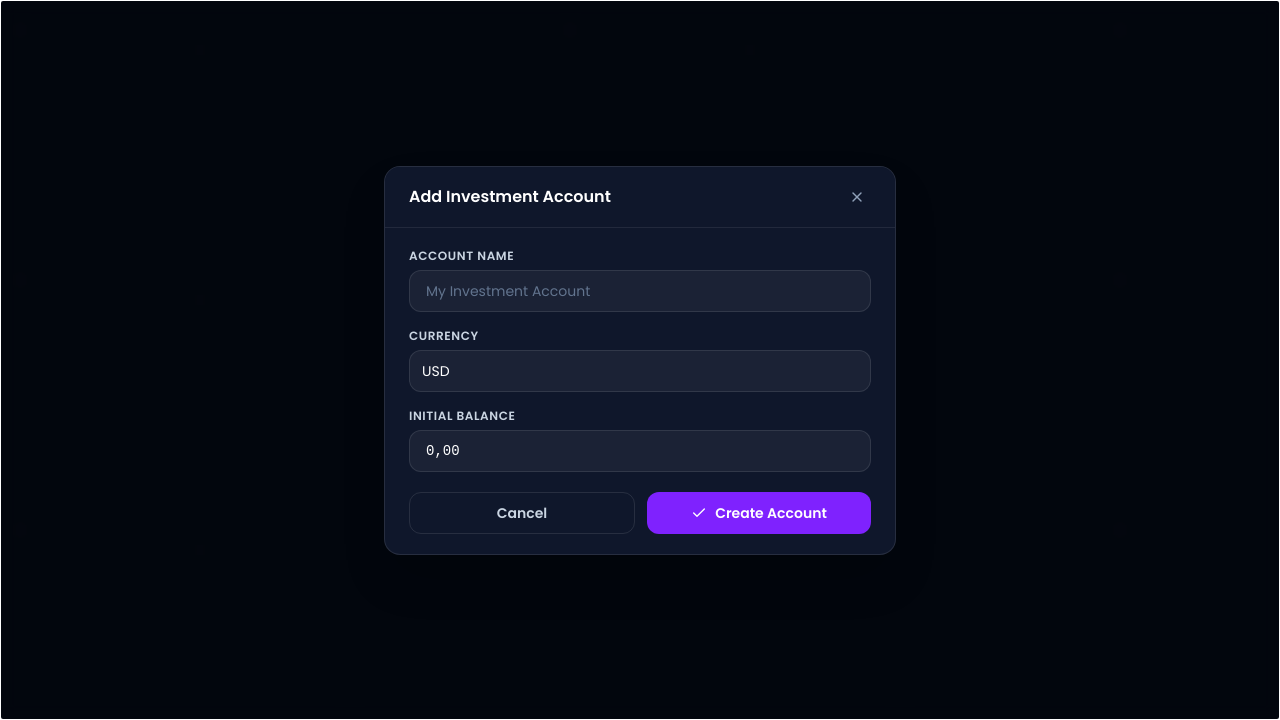
Test: CreateInvestmentModal › should show error notification on session invalid error
In the field labelled "Account Name": [640, 290] box [409,270,871,312], type "My Account"
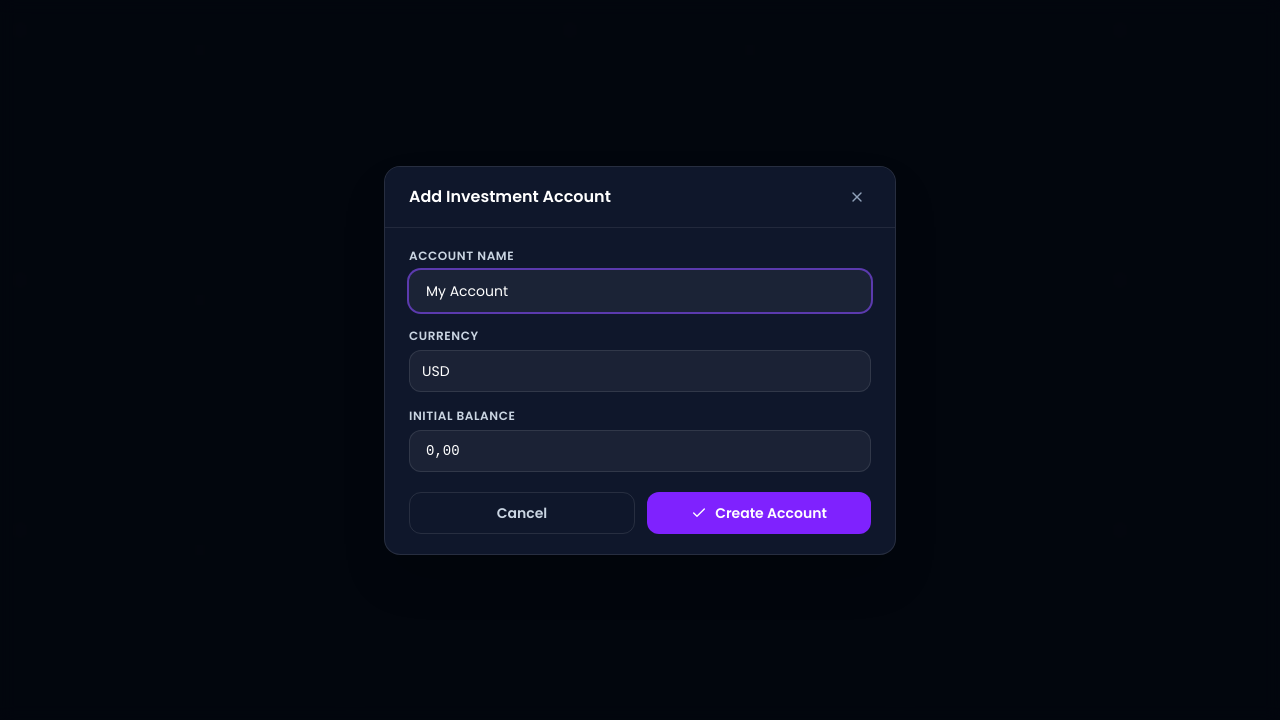
Click the button "Create Account": [759, 512] box [647,492,871,534]
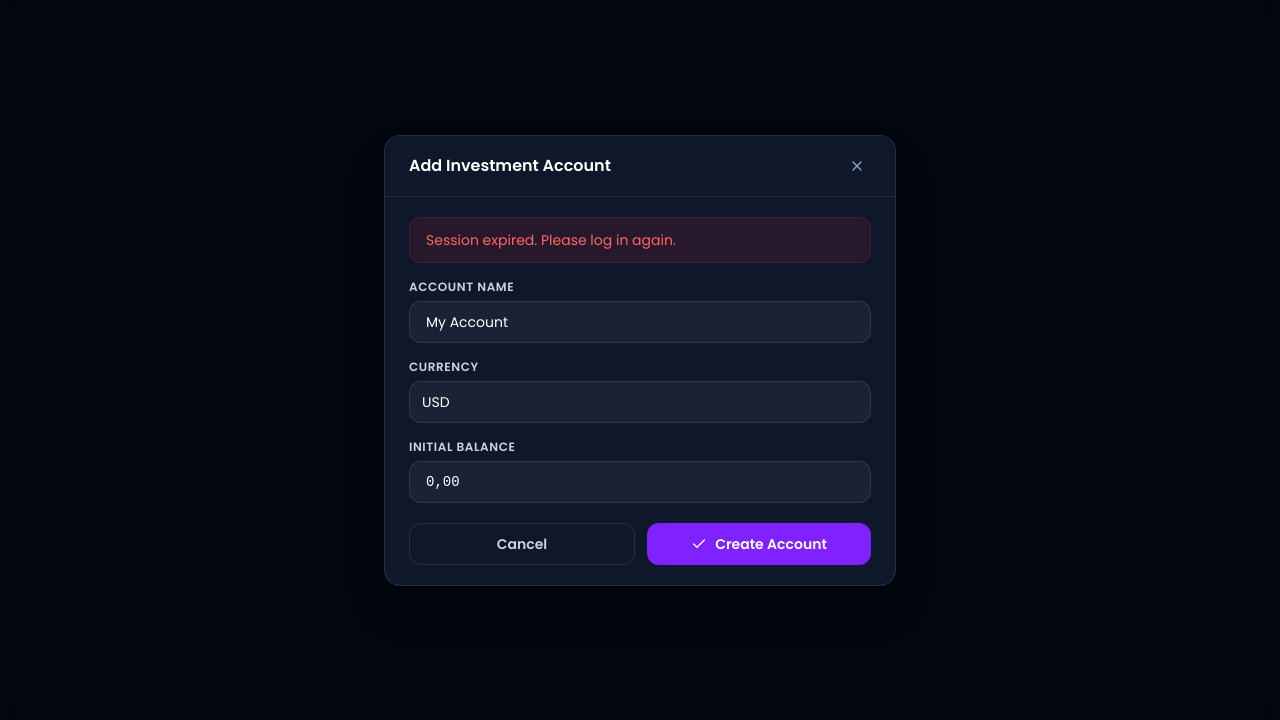
Check: the text "Session expired. Please log in again." is shown, box [409,216,871,262]
